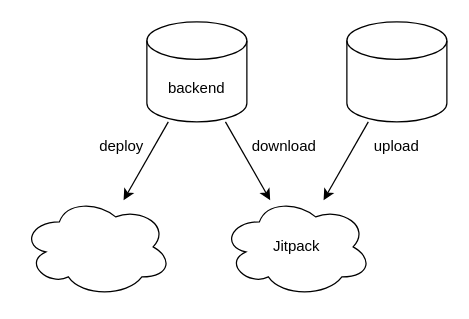
Image size: 469x319. Some labels were removed from this diagram. The box of each missing label's shape, as (x1, y1, x2, y2) in pixels:
App Engine: (21, 196, 172, 297)
registration desk: (346, 21, 447, 122)
